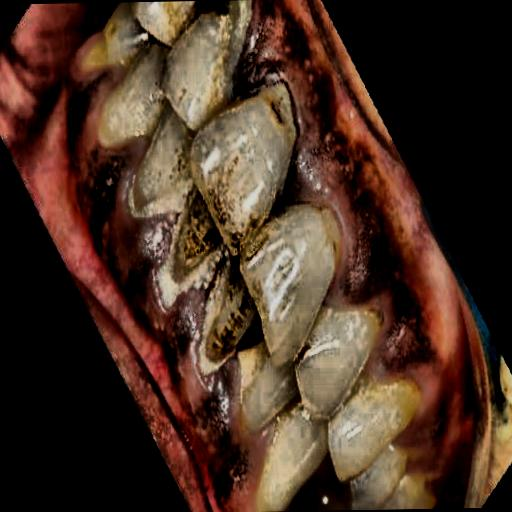Calculus: (107, 52, 306, 357), (314, 326, 430, 471)
